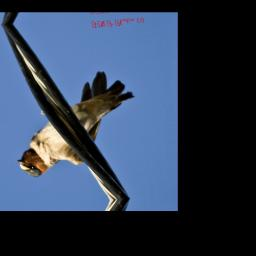Swallow: (8, 68, 142, 180)
